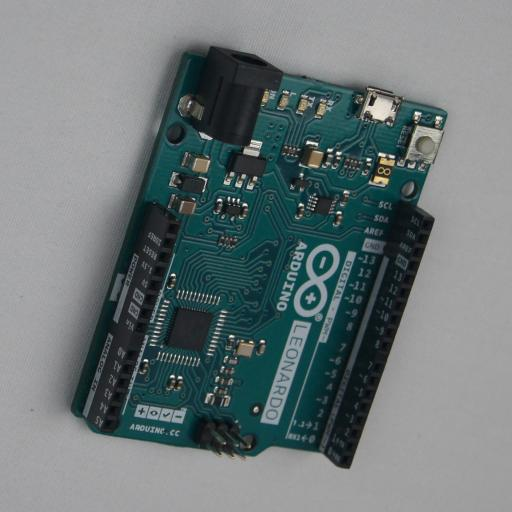Arduino Leonardo: (64, 44, 448, 468)
